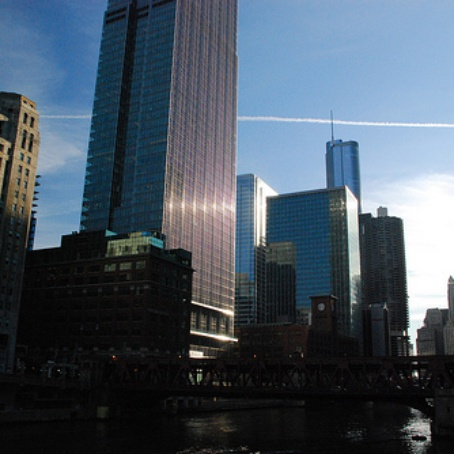bridge: (45, 343, 452, 450)
building: (75, 1, 245, 342), (25, 242, 204, 357), (266, 186, 358, 349), (1, 97, 42, 372), (219, 176, 280, 331), (366, 211, 414, 353), (324, 128, 360, 202)
sky: (1, 1, 452, 189)
